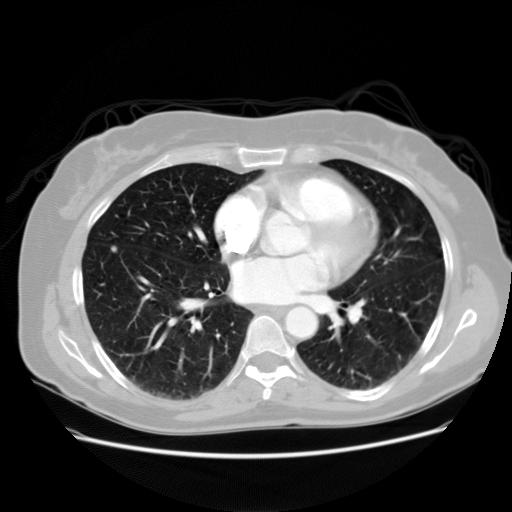nodule: (108, 243, 120, 255)
